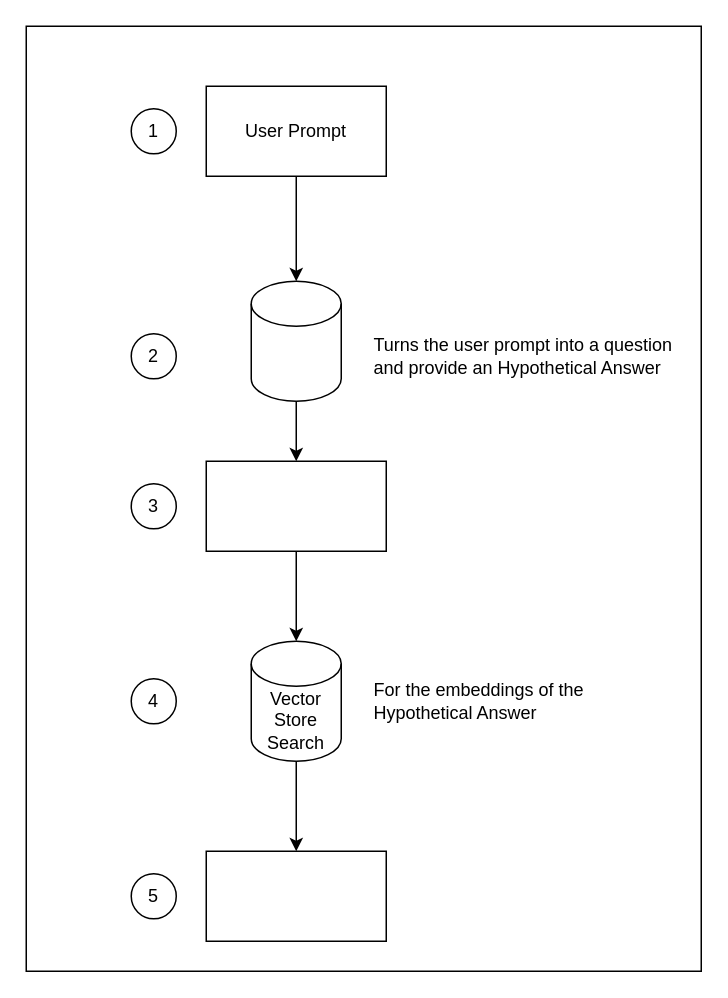
Some shapes in this 728 by 998 pixel diagram are drawn without their labels. The centre of each missing label's shape, as x and y in pixels:
"Contextual Retriever" belongs at [295,340].
"Embedding the Hypothetical Answer" belongs at [295,505].
"Output" belongs at [295,895].
